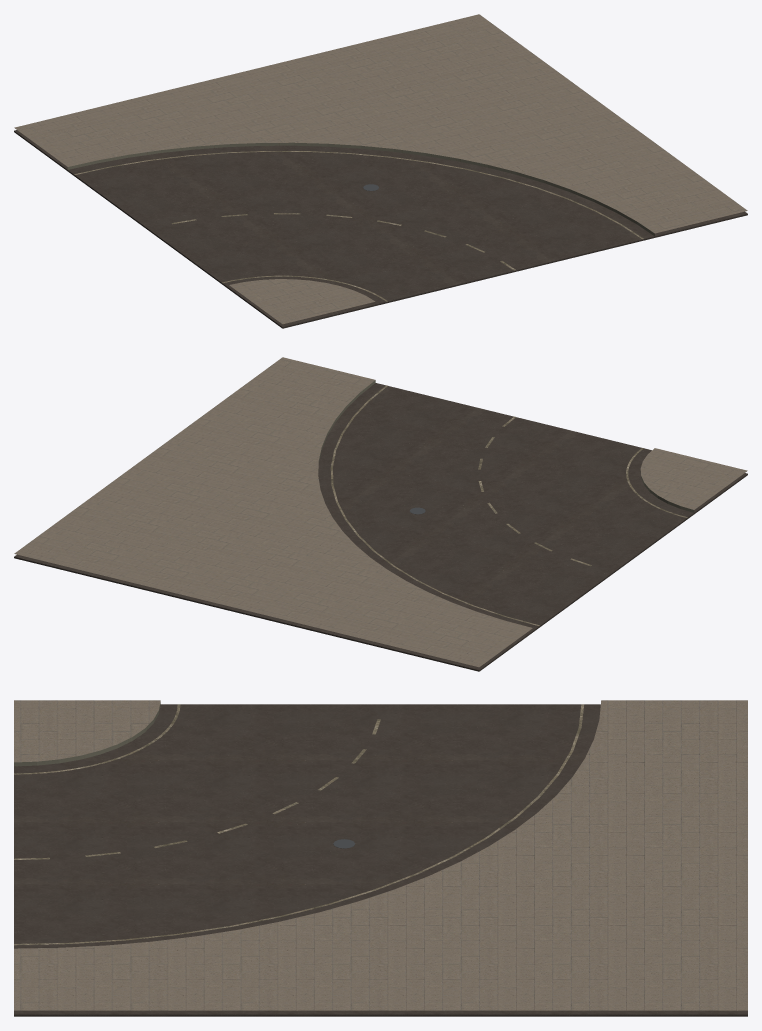
The model's file is road_corner.glb.
The picture shows the model from 3 angles, top to bottom: view 1: azimuth 30°, elevation 25°; view 2: azimuth 150°, elevation 25°; view 3: azimuth 270°, elevation 25°; orthographic projection. The views are drawn at different scales.
Parts seen in each view (by area): view 1: road_corner_body; view 2: road_corner_body; view 3: road_corner_body.
Part boxes in pixels (left/top/right/bottom): road_corner_body: left=14, top=14, right=747, bottom=328; road_corner_body: left=14, top=357, right=747, bottom=671; road_corner_body: left=14, top=700, right=747, bottom=1016.
Bounding box in the file's own units: 1 × 0.009 × 1.
Materials: 6 (5 with a texture image).
